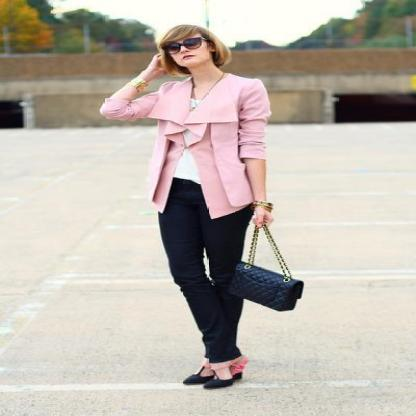bag: (228, 215, 302, 311)
jacket: (96, 75, 274, 218), (238, 142, 244, 157)
pants: (158, 178, 253, 362)
shirt: (166, 77, 214, 186)
shoe: (188, 366, 243, 389)
sunglass: (162, 39, 192, 57)
